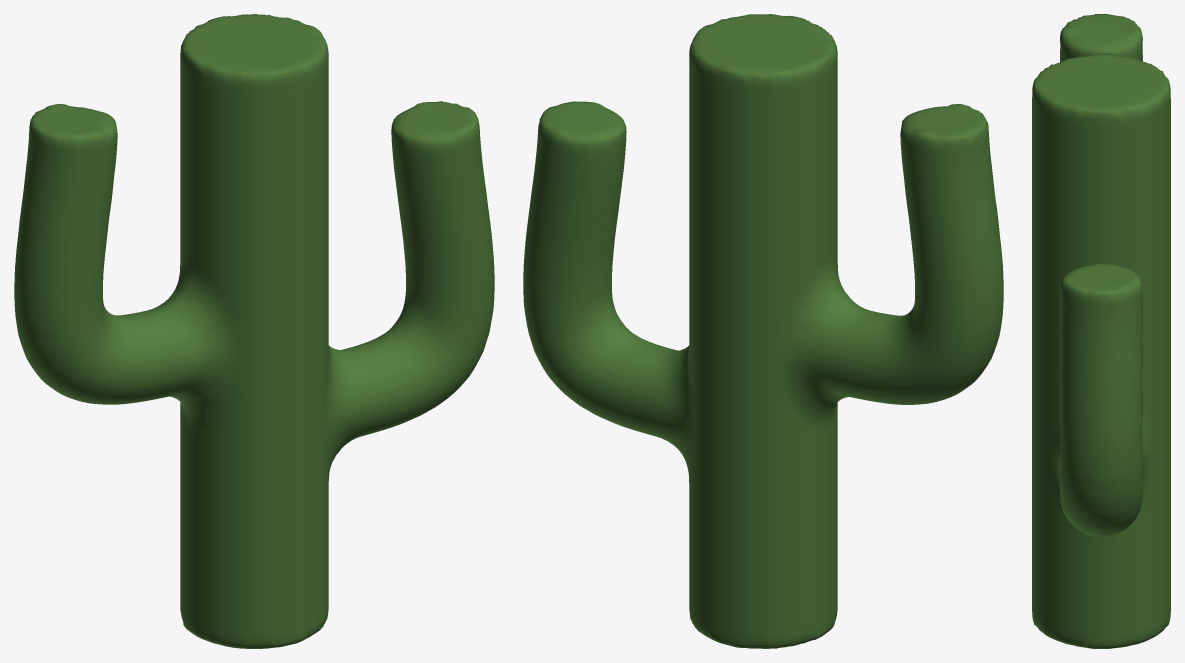
The model's file is edits_blend.glb.
3 renders of one model, left to right at view 1: azimuth 30°, elevation 25°; view 2: azimuth 150°, elevation 25°; view 3: azimuth 270°, elevation 25°, orthographic. The views are drawn at different scales.
Parts seen in each view (by area): view 1: trunk; view 2: trunk; view 3: trunk.
Part boxes in pixels (left/top/right/bottom): trunk: left=14, top=14, right=494, bottom=648; trunk: left=523, top=14, right=1003, bottom=648; trunk: left=1032, top=14, right=1170, bottom=648.
Size of the model in its own units: 0.254 by 0.3003 by 0.0697.
